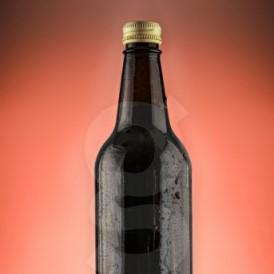beer: (92, 22, 197, 273)
